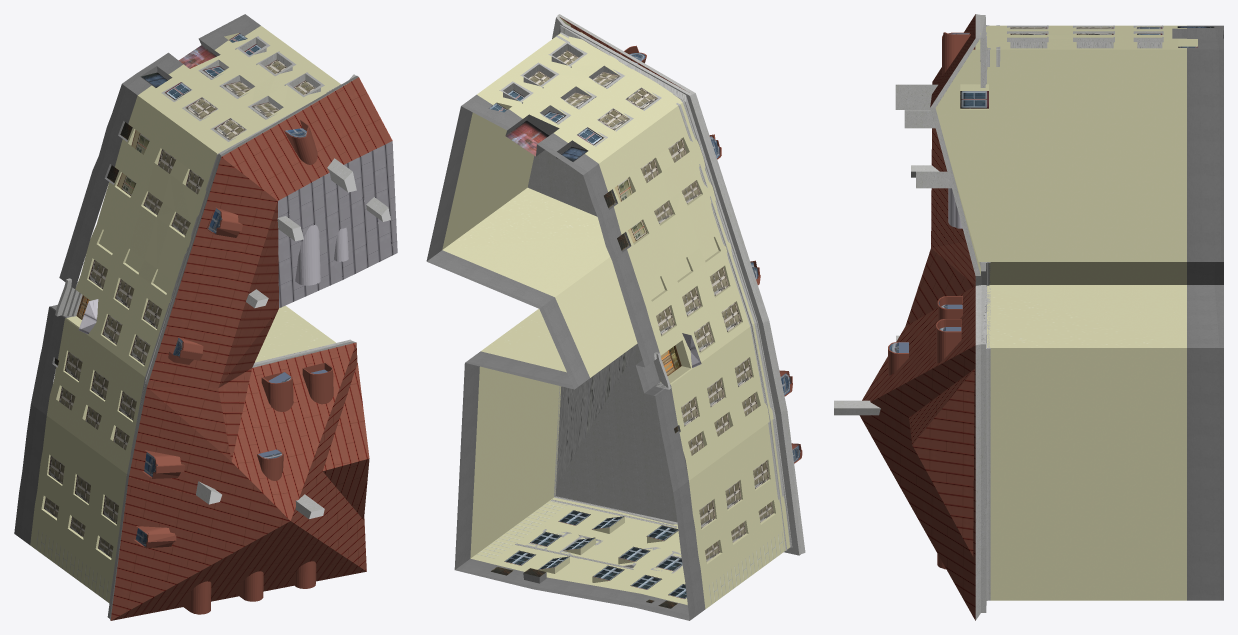
Rendered from Rataskaevu9-origo.obj.
3 renders of one model, left to right at view 1: azimuth 30°, elevation 25°; view 2: azimuth 150°, elevation 25°; view 3: azimuth 270°, elevation 25°, orthographic. The views are drawn at different scales.
Parts seen in each view (by area): view 1: _6_pivot; view 2: _6_pivot; view 3: _6_pivot.
Part boxes in pixels (bbox=[...]): _6_pivot: bbox=[14, 14, 397, 620]; _6_pivot: bbox=[426, 14, 805, 620]; _6_pivot: bbox=[834, 14, 1223, 620].
Bounding box in the file's own units: 22.69 × 37.5 × 22.91.
